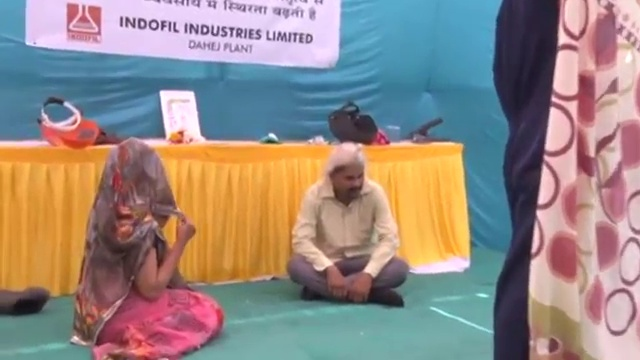helmet_off: (100, 141, 174, 215), (328, 149, 366, 202)
person: (72, 138, 224, 360), (492, 1, 563, 360), (283, 147, 409, 308)
